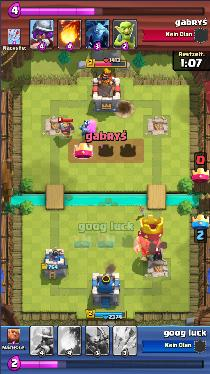ally_minion: (80, 123, 91, 135)
enemy_giant: (132, 232, 163, 260)
enemy_knight: (54, 121, 76, 137)
enemy_mini_pekka: (154, 248, 163, 261)
